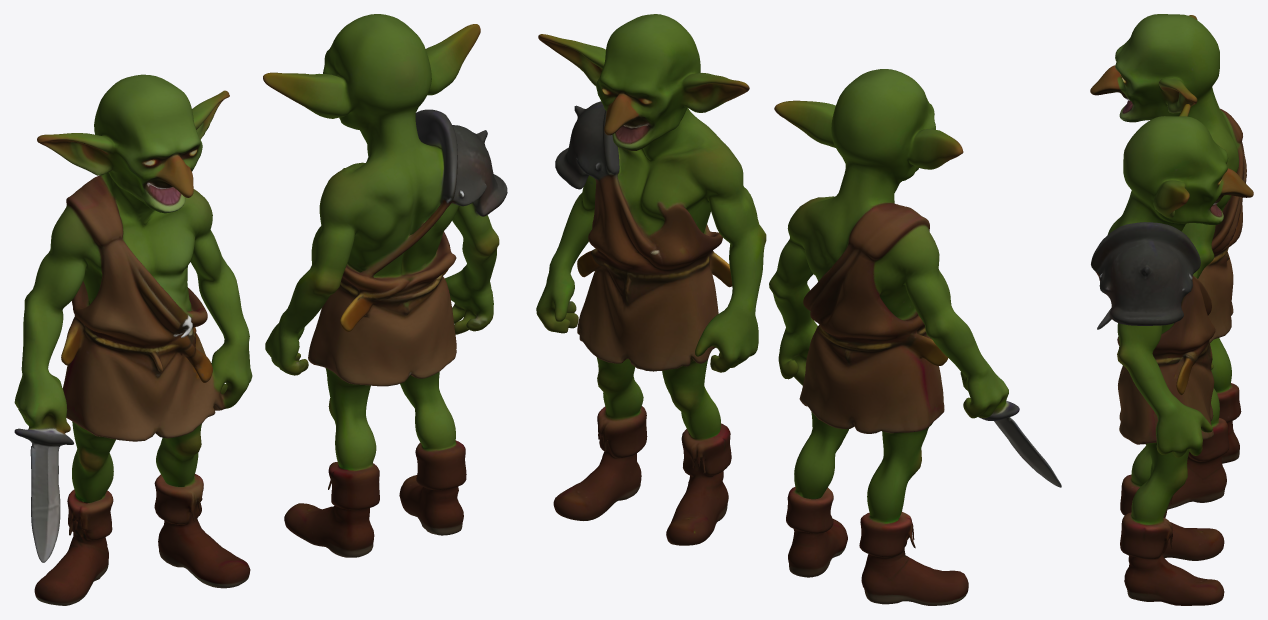
The model's file is tripo_convert_a996b766-b77d-4809-9f50-a4c55a25cc45.fbx.
3 renders of one model, left to right at view 1: azimuth 30°, elevation 25°; view 2: azimuth 150°, elevation 25°; view 3: azimuth 270°, elevation 25°, orthographic. The views are drawn at different scales.
Visible parts, largest first — view 1: tripo_node_a996b766; view 2: tripo_node_a996b766; view 3: tripo_node_a996b766.
Boxes of the visible parts, left/top/right/bottom form: tripo_node_a996b766: left=14, top=14, right=507, bottom=605; tripo_node_a996b766: left=536, top=14, right=1061, bottom=605; tripo_node_a996b766: left=1090, top=14, right=1253, bottom=605.
Size of the model in its own units: 0.974 by 0.9759 by 0.3151.
Materials: 1 (1 with a texture image).
